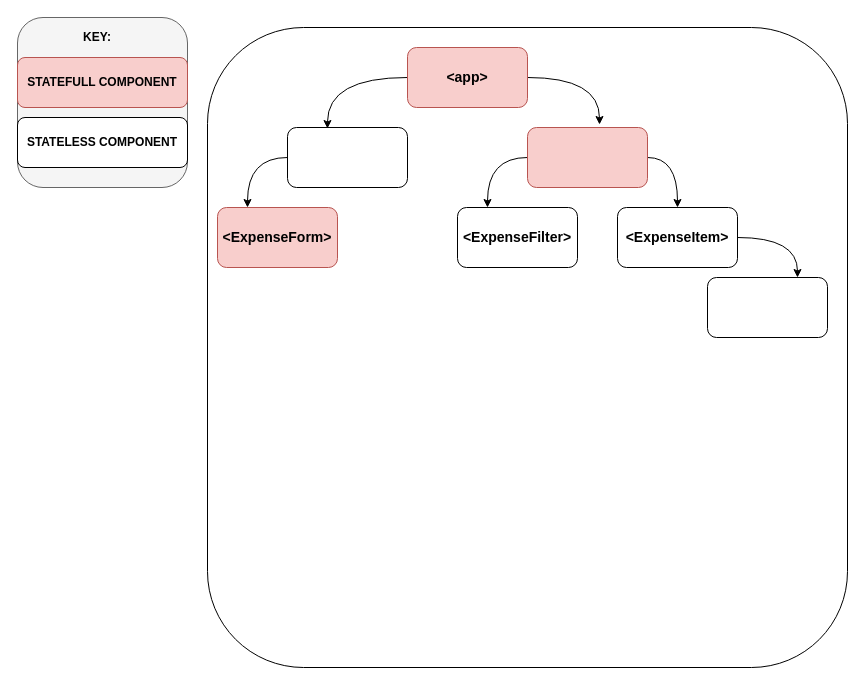
Some shapes in this 865 by 685 pixel diagram are drawn without their labels. The centre of each missing label's shape, as x and y in pixels:
"<ExpenseDate>" goes at point 767,307.
"<Expenses>" goes at point 587,157.
"<NewExpense>" goes at point 347,157.
